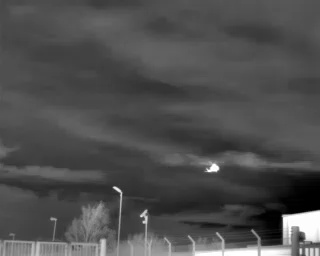HELICOPTER: (201, 158, 225, 178)
